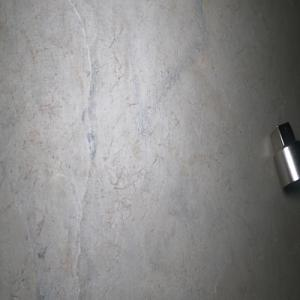MetalPart: (269, 120, 300, 191)
